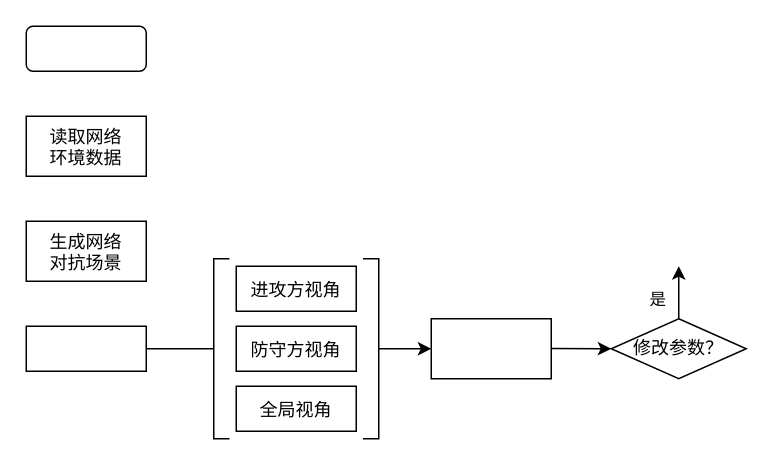
Some shapes in this 773 by 465 pixel diagram are drawn without their labels. Here are the shapes that lost their labels. From the top down, the centre of each, then its label:
At (85,48): "进入界面".
At (85,348): "选择视角".
At (490,348): "对抗模拟 实时渲染".
